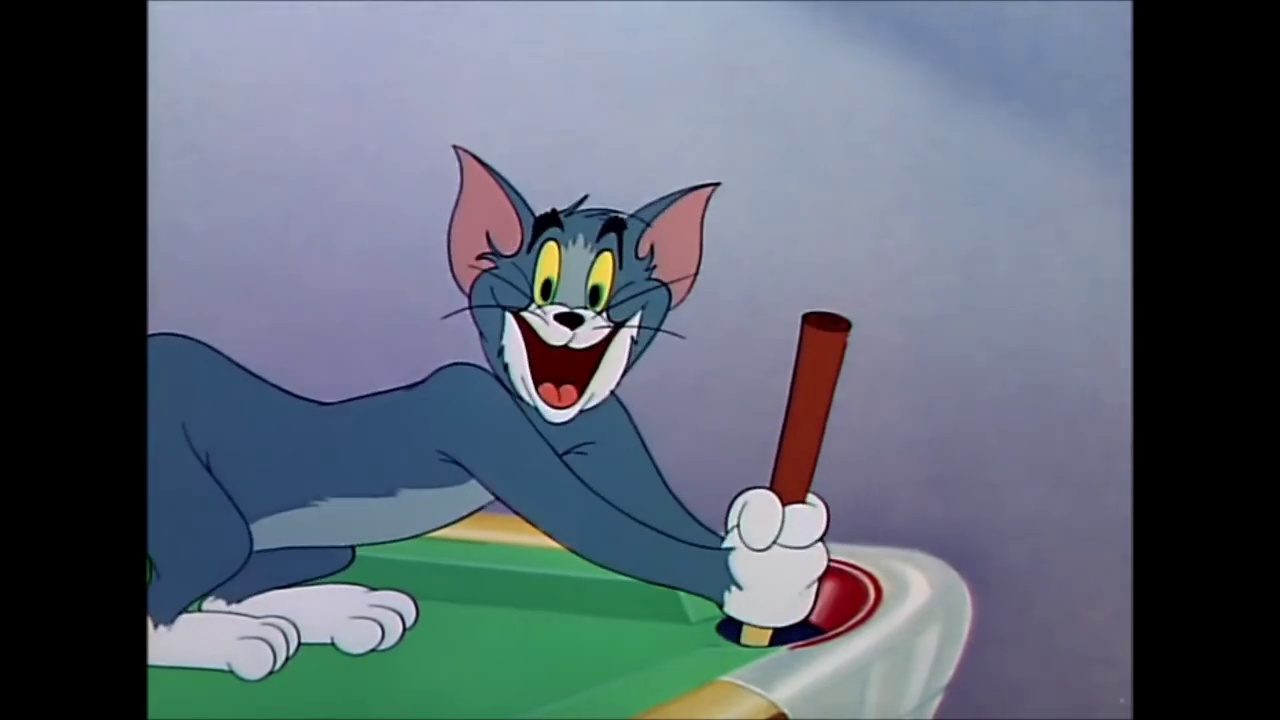happy: (522, 192, 627, 425)
